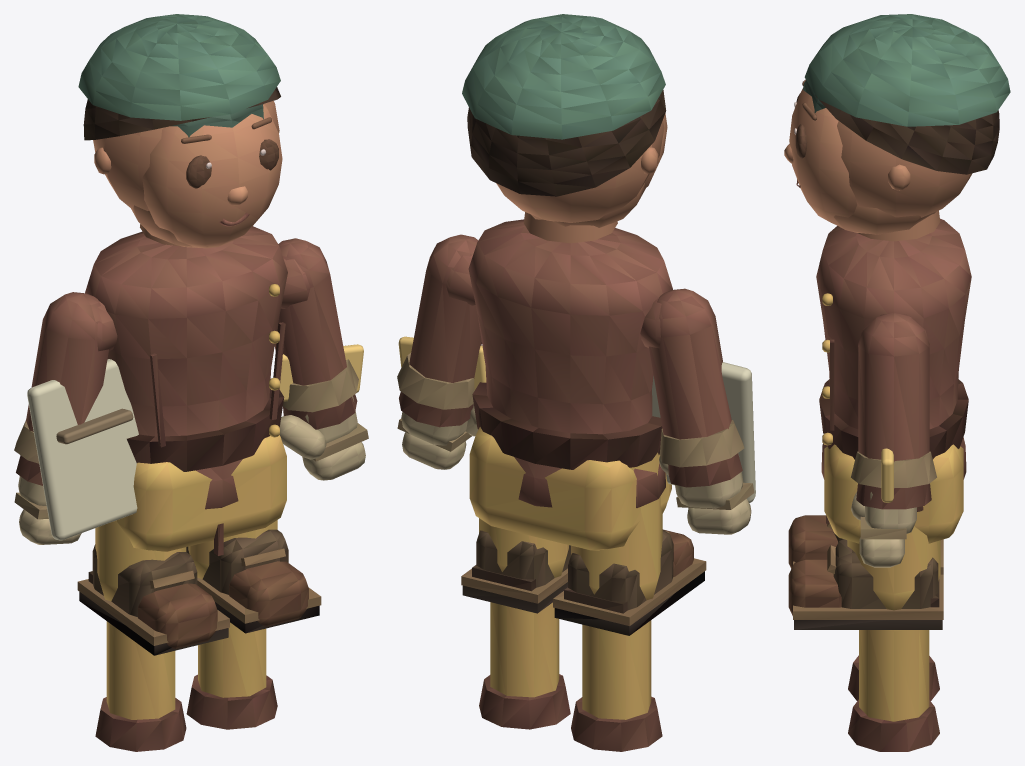
File: choi-minseo.m1.glb
3 views of the same model, side by side, from view 1: azimuth 30°, elevation 25°; view 2: azimuth 150°, elevation 25°; view 3: azimuth 270°, elevation 25° (orthographic).
Visible parts, largest first — view 1: coat, legs, figureDetail, hat, marketLedger, trousers, armRightMesh, armLeftMesh, handRightMesh, handLeftMesh, marketLedgerBand, premiumPriceTag; view 2: coat, legs, hat, figureDetail, trousers, armLeftMesh, armRightMesh, handLeftMesh, handRightMesh, marketLedger, neck, premiumPriceTag; view 3: legs, coat, figureDetail, hat, armRightMesh, trousers, handRightMesh, neck, premiumPriceTag.
Boxes of the visible parts, x1,y1,x2,y2 form: coat: (85, 226, 287, 509); legs: (77, 520, 321, 751); figureDetail: (83, 87, 282, 248); hat: (78, 14, 280, 137); marketLedger: (27, 359, 138, 540); trousers: (117, 435, 286, 555); armRightMesh: (274, 238, 357, 429); armLeftMesh: (16, 292, 117, 485); handRightMesh: (279, 359, 368, 480); handLeftMesh: (14, 420, 81, 544); marketLedgerBand: (56, 408, 133, 444); premiumPriceTag: (279, 344, 363, 401); coat: (468, 219, 672, 507); legs: (461, 452, 706, 751); hat: (462, 14, 665, 139); figureDetail: (467, 90, 667, 227); trousers: (469, 427, 671, 550); armLeftMesh: (640, 288, 742, 487); armRightMesh: (399, 234, 481, 427); handLeftMesh: (659, 420, 754, 534); handRightMesh: (397, 353, 478, 469); marketLedger: (652, 362, 755, 502); neck: (523, 212, 617, 243); premiumPriceTag: (398, 336, 486, 390); legs: (788, 515, 943, 751); coat: (816, 218, 971, 511); figureDetail: (784, 79, 999, 234); hat: (803, 14, 1010, 126); armRightMesh: (856, 313, 931, 509); trousers: (824, 444, 963, 543); handRightMesh: (851, 451, 936, 567); neck: (857, 210, 940, 241); premiumPriceTag: (881, 448, 893, 502).
Bounding box in the file's own units: 1.07 × 2.11 × 0.6178.
